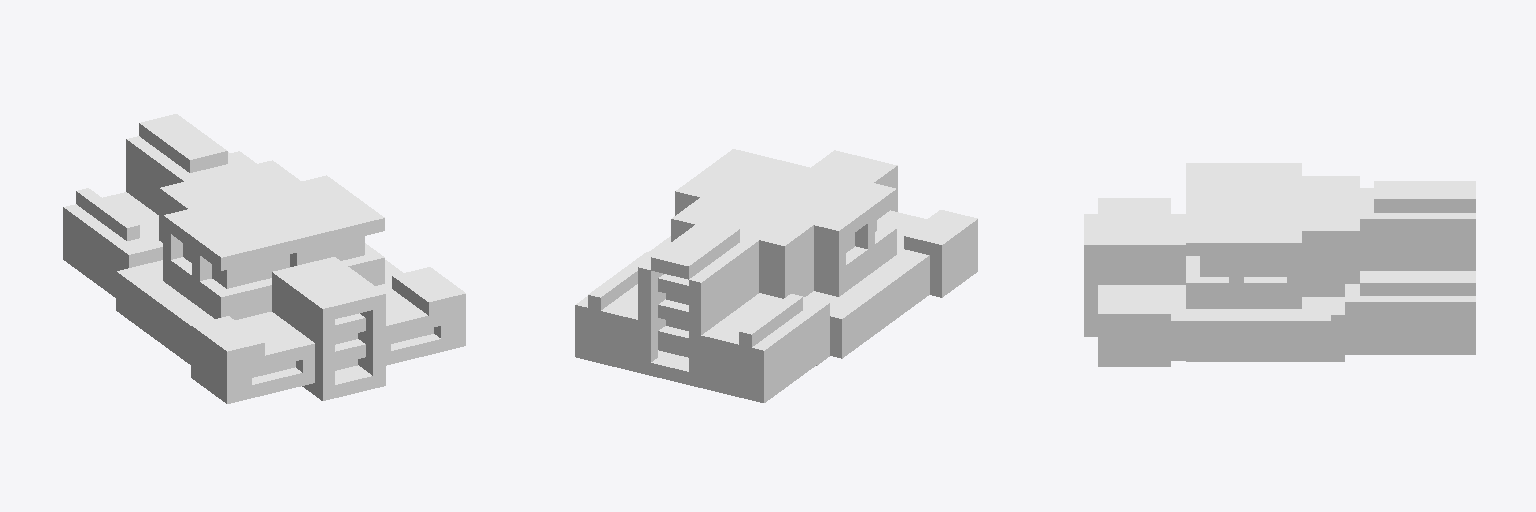
File: FlyingCar2.obj
3 renders of one model, left to right at view 1: azimuth 30°, elevation 25°; view 2: azimuth 150°, elevation 25°; view 3: azimuth 270°, elevation 25°, orthographic.
Parts seen in each view (by area): view 1: object 1; view 2: object 1; view 3: object 1.
Part boxes in pixels (x1,y1,x2,y2): object 1: (63,114,465,403); object 1: (575,149,977,402); object 1: (1084,163,1475,366).
Bounding box in the file's own units: 1.9 × 1 × 2.7.